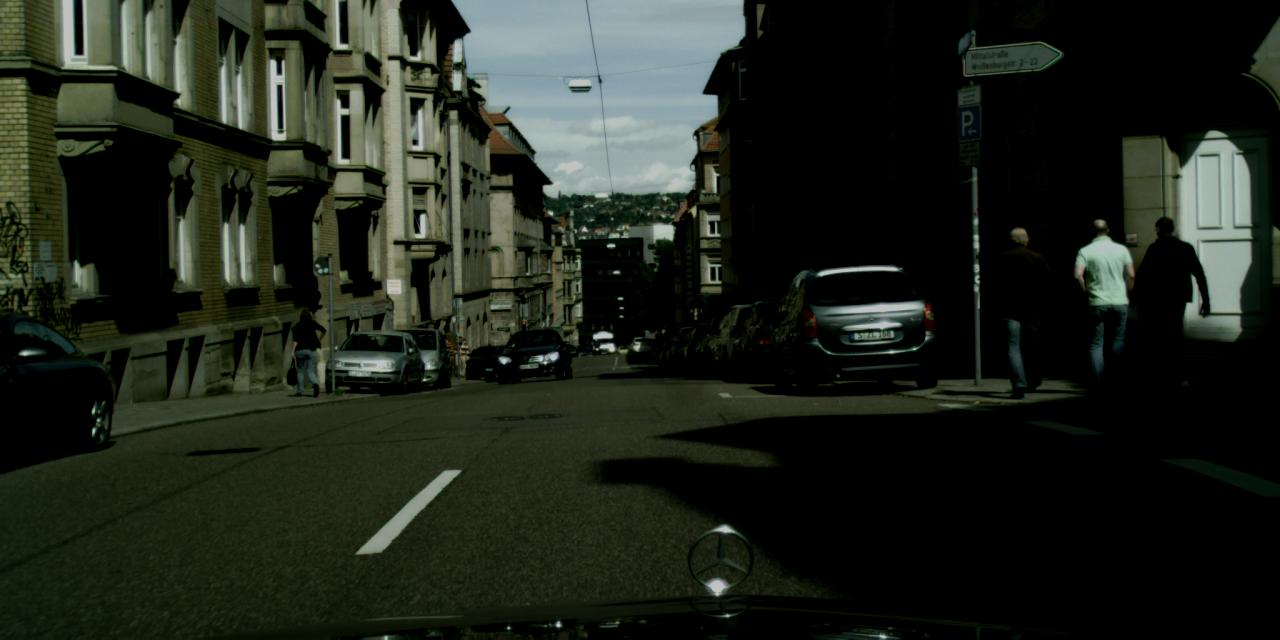ped: (1131, 215, 1201, 386), (1070, 218, 1139, 388), (986, 226, 1054, 393), (290, 309, 324, 393), (452, 336, 470, 377)
